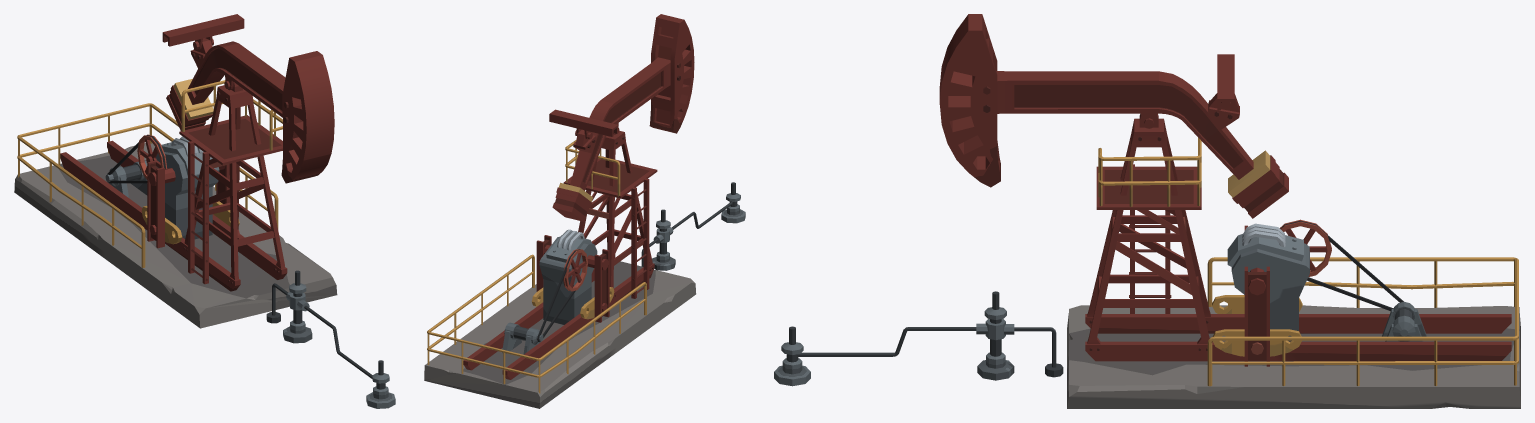
The model's file is SM_Prop_Pipline_OilPump_01.fbx.
The picture shows the model from 3 angles, left to right: view 1: azimuth 30°, elevation 25°; view 2: azimuth 150°, elevation 25°; view 3: azimuth 270°, elevation 25°; orthographic projection. The views are drawn at different scales.
Visible parts, largest first — view 1: SM_Prop_Pipline_OilPump_01, SM_Prop_Pipline_OilPump_Arm_01, SM_Prop_Pipline_Swing_01, SM_Prop_Pipline_Arm_Top_01, SM_Prop_Pipline_Wheel_01; view 2: SM_Prop_Pipline_OilPump_01, SM_Prop_Pipline_OilPump_Arm_01, SM_Prop_Pipline_Swing_01, SM_Prop_Pipline_Arm_Top_01, SM_Prop_Pipline_Wheel_01; view 3: SM_Prop_Pipline_OilPump_01, SM_Prop_Pipline_OilPump_Arm_01, SM_Prop_Pipline_Swing_01, SM_Prop_Pipline_Arm_Top_01, SM_Prop_Pipline_Wheel_01.
Part boxes in pixels (x1,y1,x2,y2): SM_Prop_Pipline_OilPump_01: (14,80,395,408); SM_Prop_Pipline_OilPump_Arm_01: (166,38,334,183); SM_Prop_Pipline_Swing_01: (141,160,239,248); SM_Prop_Pipline_Arm_Top_01: (162,14,244,49); SM_Prop_Pipline_Wheel_01: (137,134,167,179); SM_Prop_Pipline_OilPump_01: (424,130,745,408); SM_Prop_Pipline_OilPump_Arm_01: (552,14,694,221); SM_Prop_Pipline_Swing_01: (531,235,614,322); SM_Prop_Pipline_Arm_Top_01: (549,109,618,139); SM_Prop_Pipline_Wheel_01: (563,248,587,291); SM_Prop_Pipline_OilPump_01: (774,113,1520,408); SM_Prop_Pipline_OilPump_Arm_01: (939,14,1288,218); SM_Prop_Pipline_Swing_01: (1212,225,1302,366); SM_Prop_Pipline_Arm_Top_01: (1217,54,1234,110); SM_Prop_Pipline_Wheel_01: (1279,219,1331,276).
Size of the model in its own units: 375 by 762 by 1449.
